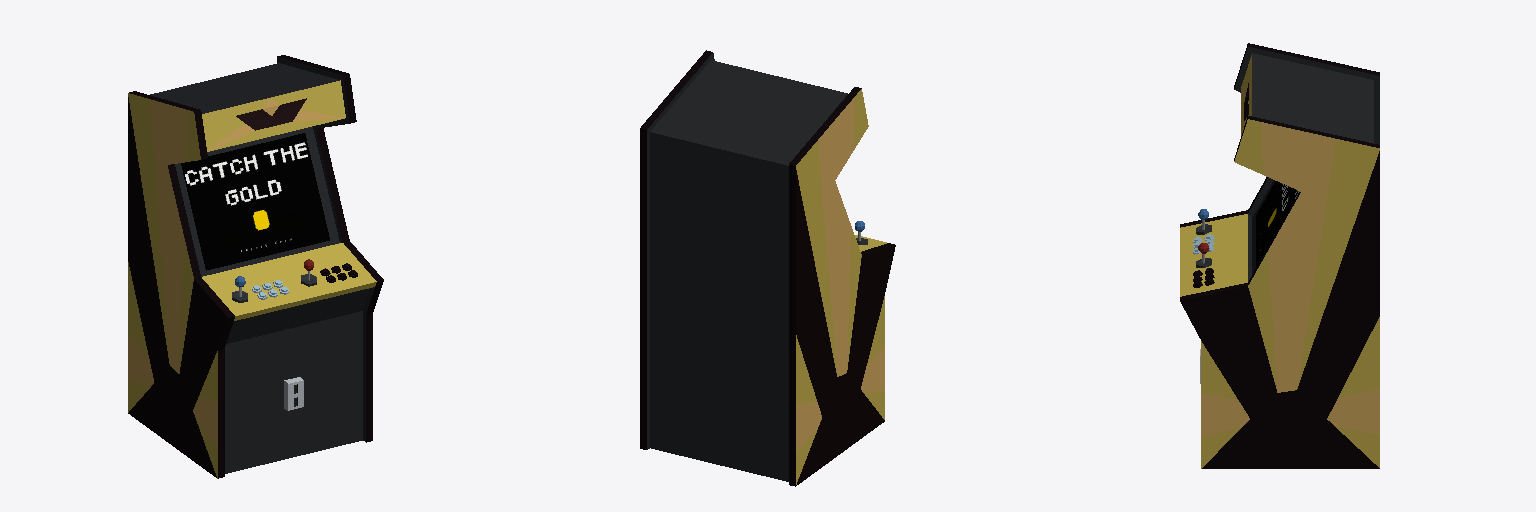
3 views of the same model, side by side, from view 1: azimuth 30°, elevation 25°; view 2: azimuth 150°, elevation 25°; view 3: azimuth 270°, elevation 25° (orthographic).
Parts seen in each view (by area): view 1: SM_Prop_ArcadeMachine_01_Mesh.197; view 2: SM_Prop_ArcadeMachine_01_Mesh.197; view 3: SM_Prop_ArcadeMachine_01_Mesh.197.
Part boxes in pixels (left/top/right/bottom): SM_Prop_ArcadeMachine_01_Mesh.197: left=128, top=55, right=383, bottom=478; SM_Prop_ArcadeMachine_01_Mesh.197: left=640, top=50, right=895, bottom=486; SM_Prop_ArcadeMachine_01_Mesh.197: left=1180, top=43, right=1379, bottom=468.
Size of the model in its own units: 0.8974 by 1.93 by 1.
Materials: 1 (1 with a texture image).